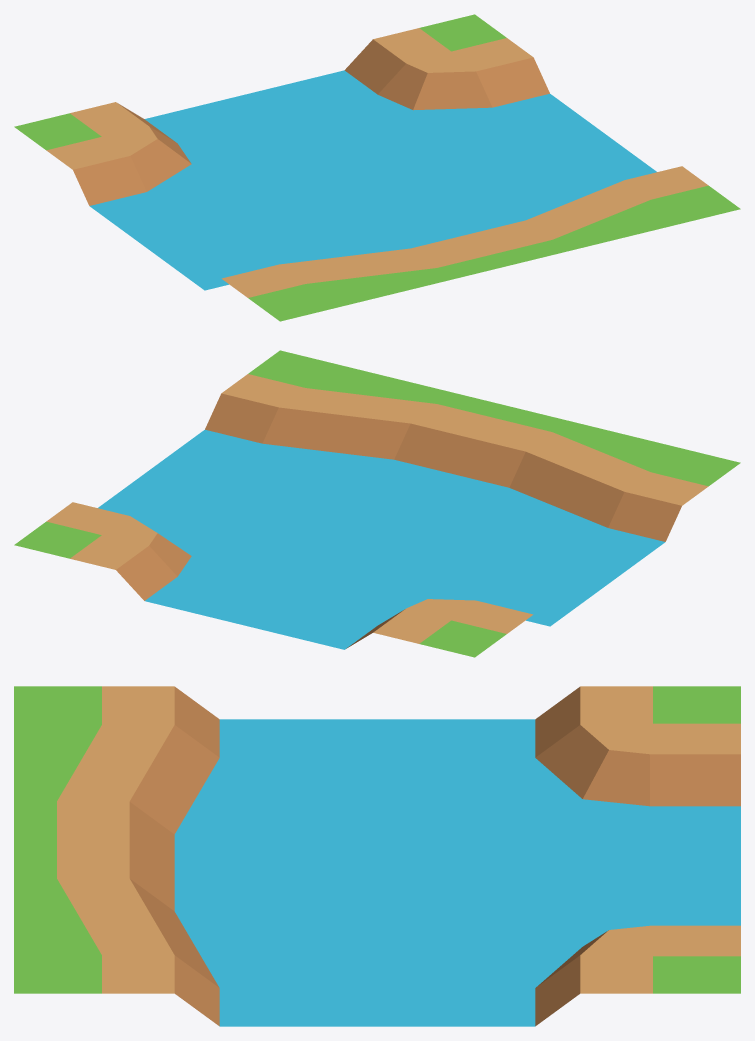
The model's file is river-split.glb.
3 renders of one model, top to bottom at view 1: azimuth 30°, elevation 25°; view 2: azimuth 150°, elevation 25°; view 3: azimuth 270°, elevation 25°, orthographic. The views are drawn at different scales.
Parts seen in each view (by area): view 1: ground_riverSplit; view 2: ground_riverSplit; view 3: ground_riverSplit.
Part boxes in pixels (left/top/right/bottom): ground_riverSplit: left=14, top=14, right=740, bottom=321; ground_riverSplit: left=14, top=350, right=740, bottom=657; ground_riverSplit: left=14, top=686, right=740, bottom=1026.
Bounding box in the file's own units: 4 × 0.2002 × 4.
